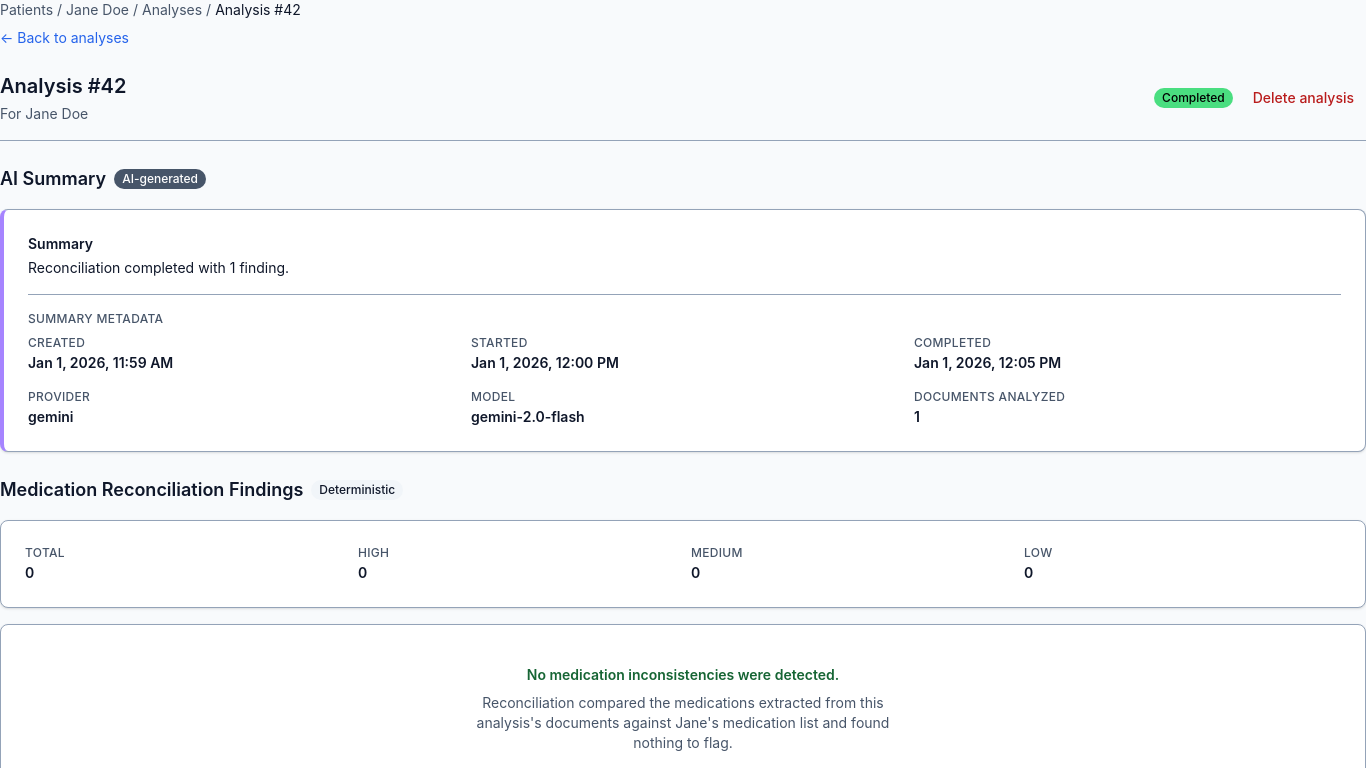
Test case: AnalysisDetailPage › shows an error inside the dialog and keeps the user on the page when deletion fails
Click the button "Delete analysis". click: [1303, 98]
box: [1241,82,1365,114]
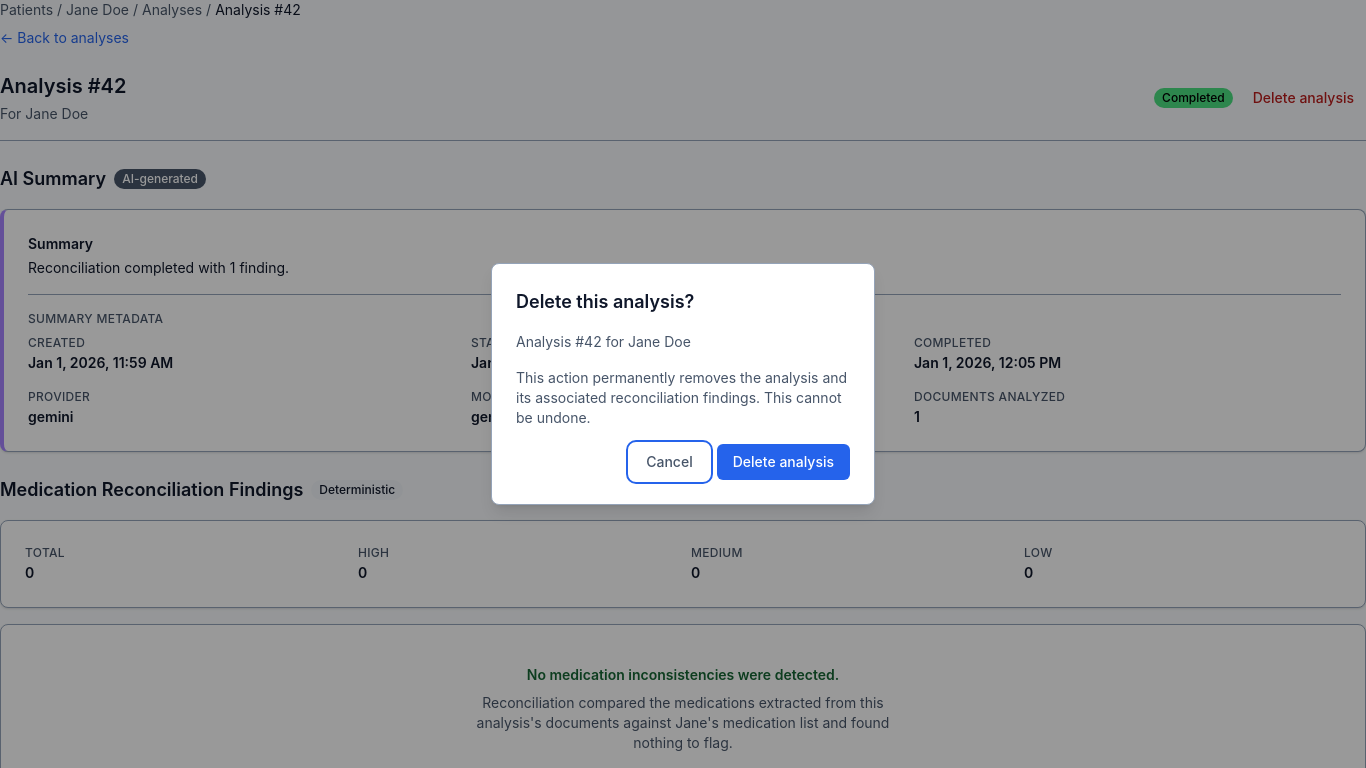
Click the button "Delete analysis". click: [783, 462]
box: [717,444,850,480]
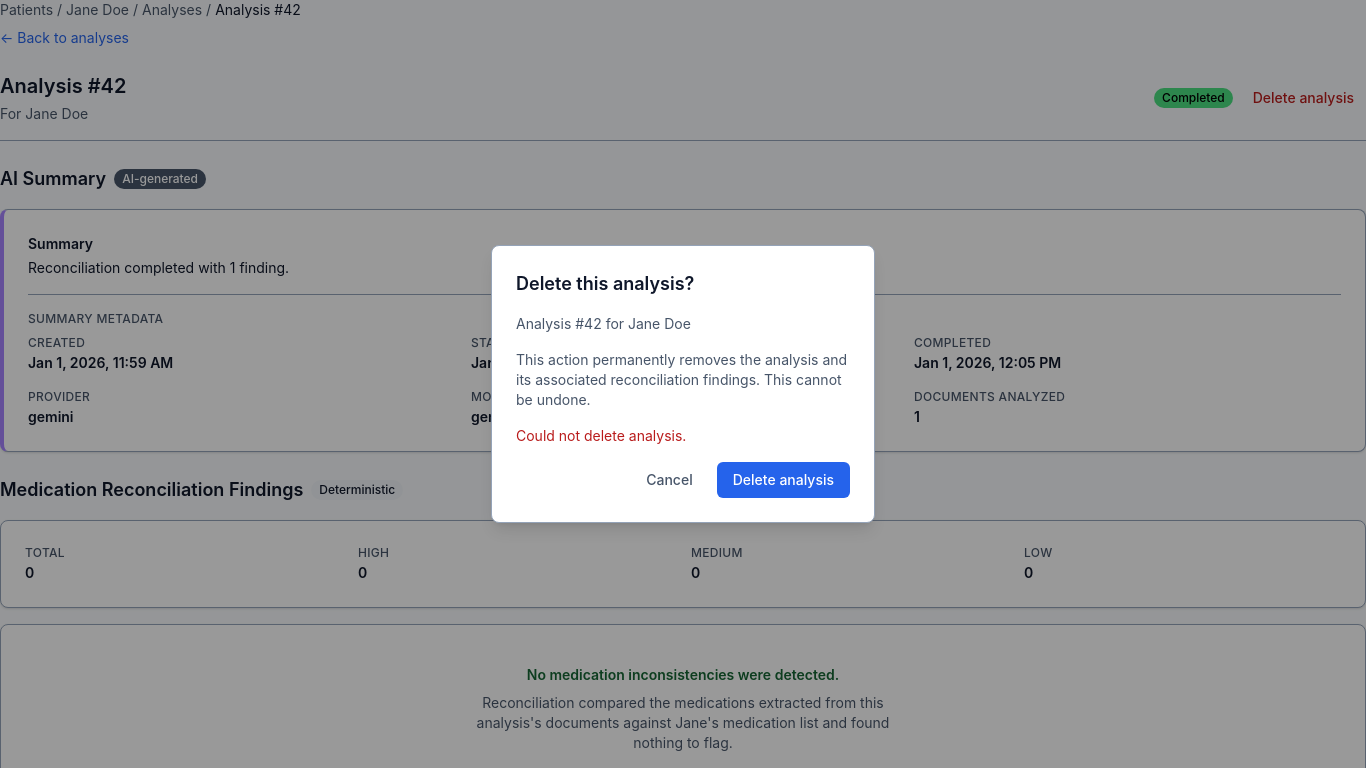
Expected: the dialog is shown, [491,245,875,523]
Expected: the button "Delete analysis" is enabled, [717,462,850,498]
Expected: the message reads "Could not delete analysis.", [516,427,686,444]
